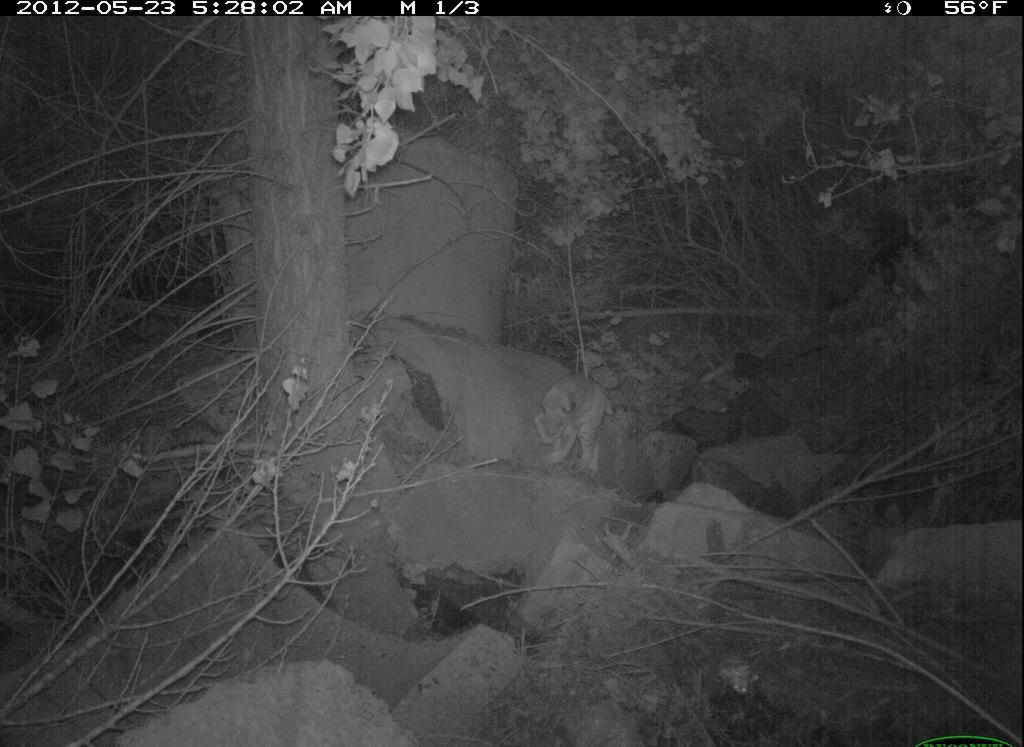bobcat: (527, 368, 623, 484)
